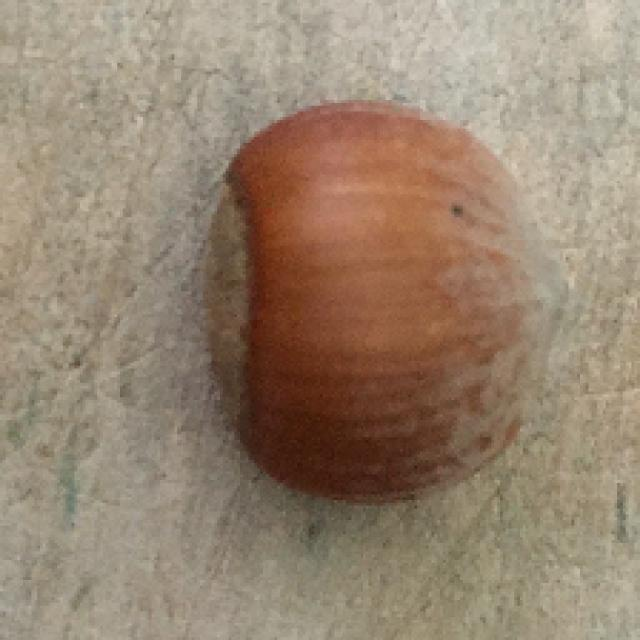qualityHazelnut: (196, 97, 563, 506)
